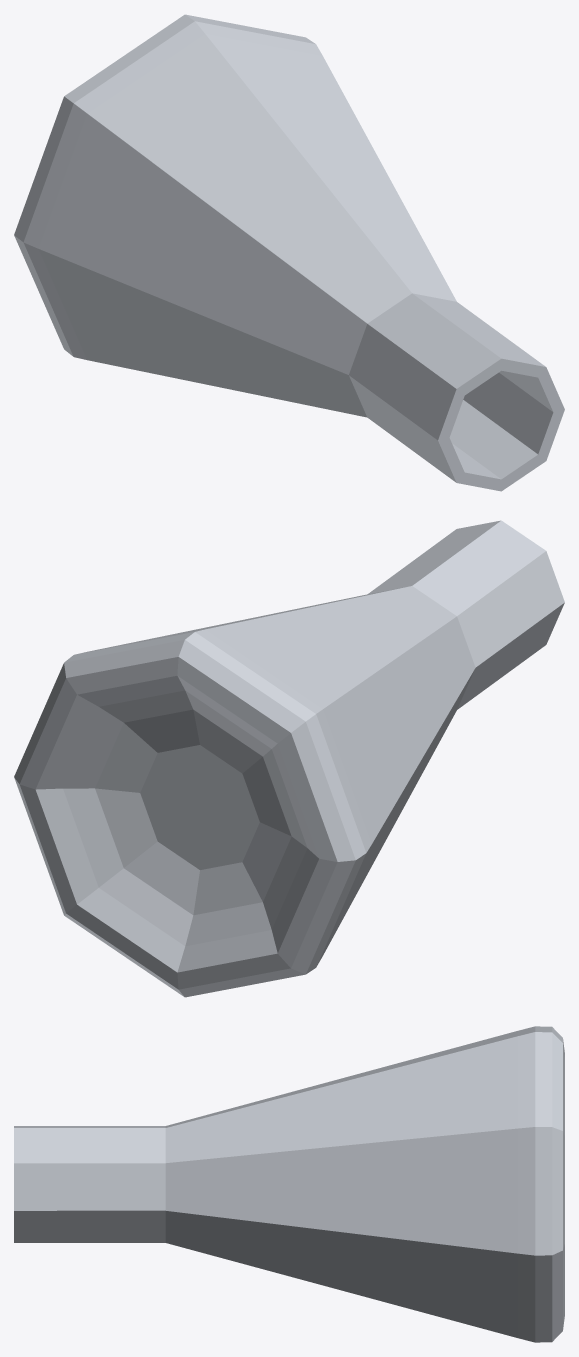
File: bottle_glassware_erlenmeyer_flask_medium.obj
3 views of the same model, one above another, from view 1: azimuth 30°, elevation 25°; view 2: azimuth 150°, elevation 25°; view 3: azimuth 270°, elevation 25° (orthographic). The views are drawn at different scales.
Visible parts, largest first — view 1: Cylinder.531; view 2: Cylinder.531; view 3: Cylinder.531.
Part boxes in pixels (x1,y1,x2,y2): Cylinder.531: (14,14,564,491); Cylinder.531: (14,520,564,997); Cylinder.531: (14,1026,564,1342).
Bounding box in the file's own units: 0.1187 × 0.1187 × 0.1944.
1 material, 1 textured.
